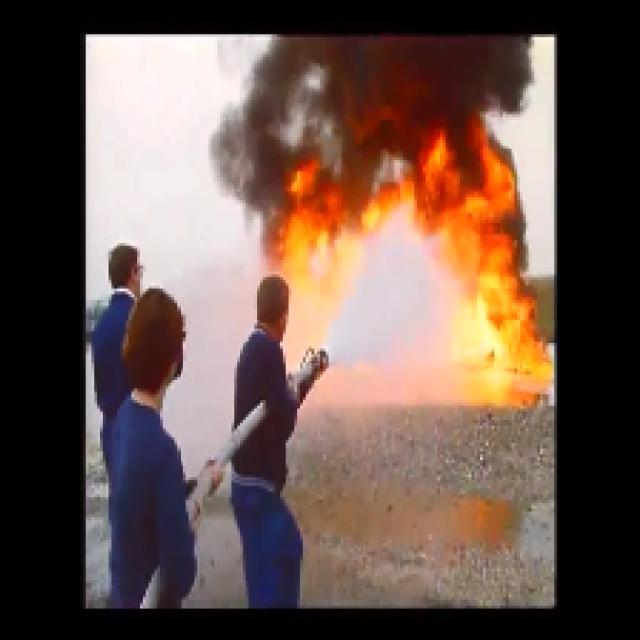fire: (298, 182, 498, 242), (470, 262, 536, 382)
smoke: (312, 31, 529, 139)
